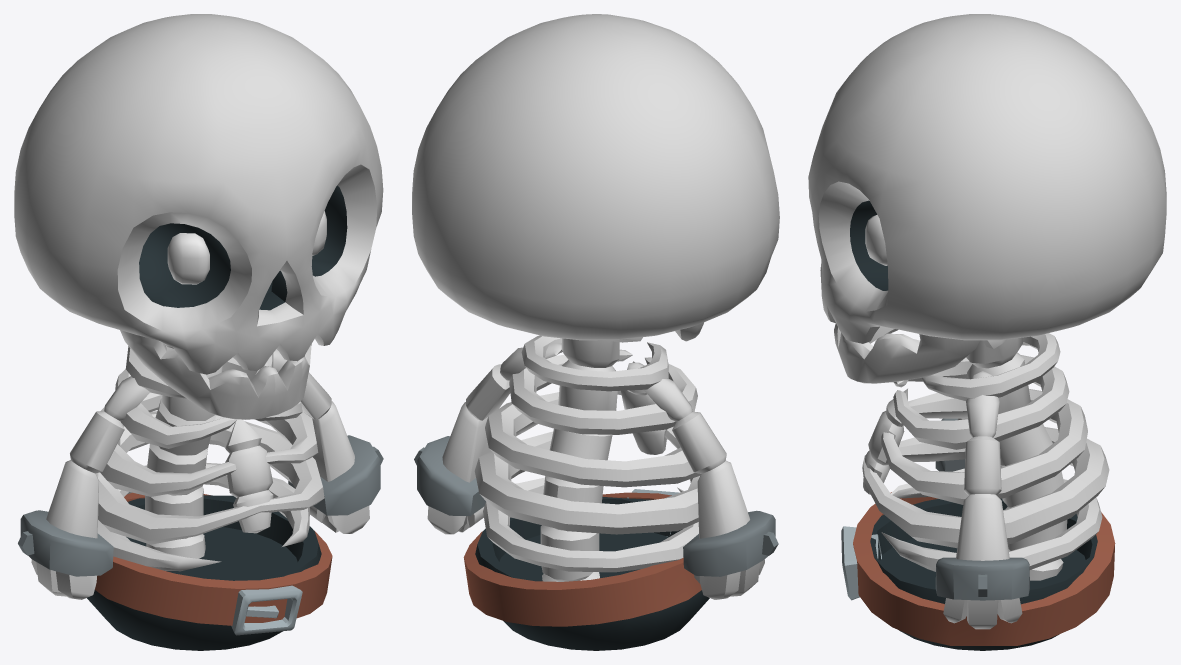
File: character_skeleton_minion.dae
3 views of the same model, side by side, from view 1: azimuth 30°, elevation 25°; view 2: azimuth 150°, elevation 25°; view 3: azimuth 270°, elevation 25° (orthographic).
Parts seen in each view (by area): view 1: character_skeleton_minion_head, character_skeleton_minion_body, character_skeleton_minion_armRight, character_skeleton_minion_jaw, character_skeleton_minion_armLeft, character_skeleton_minion_eyes; view 2: character_skeleton_minion_head, character_skeleton_minion_body, character_skeleton_minion_armRight, character_skeleton_minion_armLeft; view 3: character_skeleton_minion_head, character_skeleton_minion_body, character_skeleton_minion_armLeft, character_skeleton_minion_jaw, character_skeleton_minion_eyes.
Part boxes in pixels (box(x1,y1,x2,y2)): character_skeleton_minion_head: box(14, 14, 383, 374); character_skeleton_minion_body: box(87, 344, 332, 650); character_skeleton_minion_armRight: box(18, 376, 150, 599); character_skeleton_minion_jaw: box(120, 330, 311, 419); character_skeleton_minion_armLeft: box(273, 349, 383, 533); character_skeleton_minion_eyes: box(167, 211, 326, 284); character_skeleton_minion_head: box(412, 14, 779, 340); character_skeleton_minion_body: box(463, 335, 709, 650); character_skeleton_minion_armRight: box(627, 362, 778, 599); character_skeleton_minion_armLeft: box(414, 343, 561, 534); character_skeleton_minion_head: box(808, 14, 1166, 343); character_skeleton_minion_body: box(841, 333, 1115, 650); character_skeleton_minion_armLeft: box(935, 371, 1029, 629); character_skeleton_minion_jaw: box(834, 323, 979, 383); character_skeleton_minion_eyes: box(865, 215, 887, 265).
Size of the model in its own units: 1.06 by 0.9162 by 1.63.
